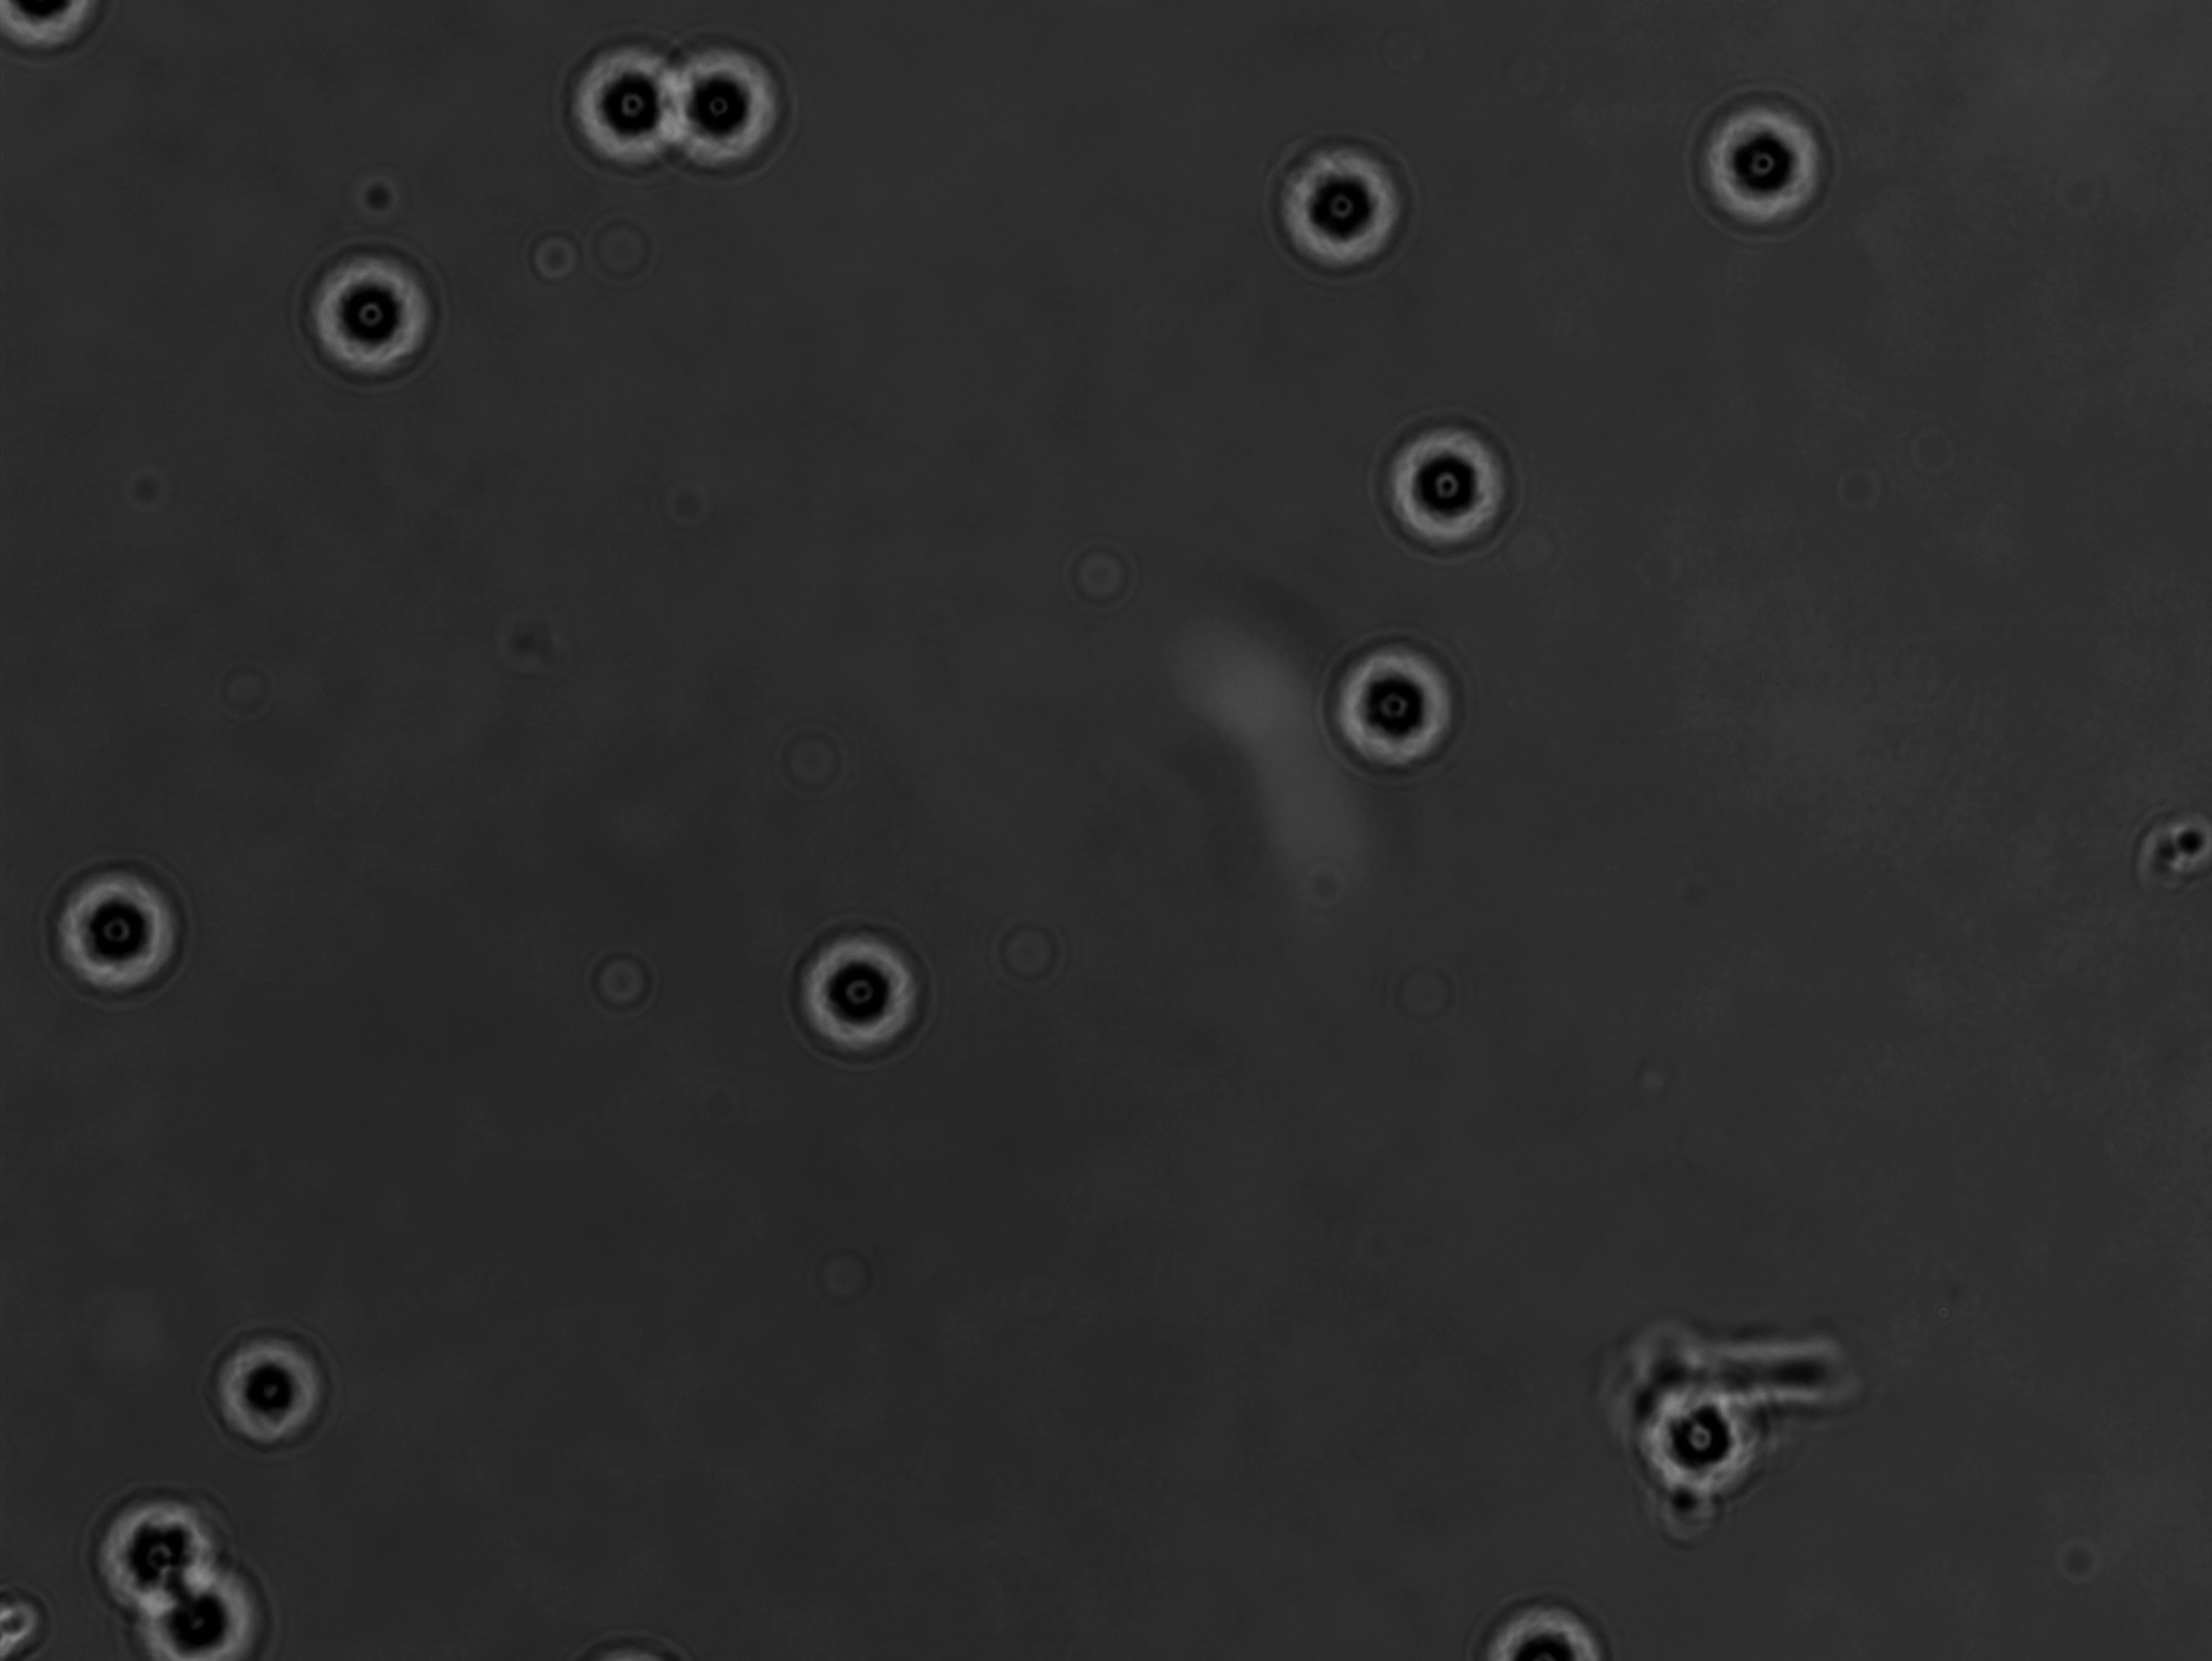depth:-20: (759, 906, 944, 1085), (277, 213, 454, 393), (73, 1476, 258, 1633), (649, 40, 823, 206), (197, 1298, 366, 1466), (30, 841, 201, 1005), (1682, 82, 1853, 244), (1364, 398, 1526, 567), (1260, 127, 1430, 288), (1308, 625, 1474, 787), (546, 16, 696, 185)
